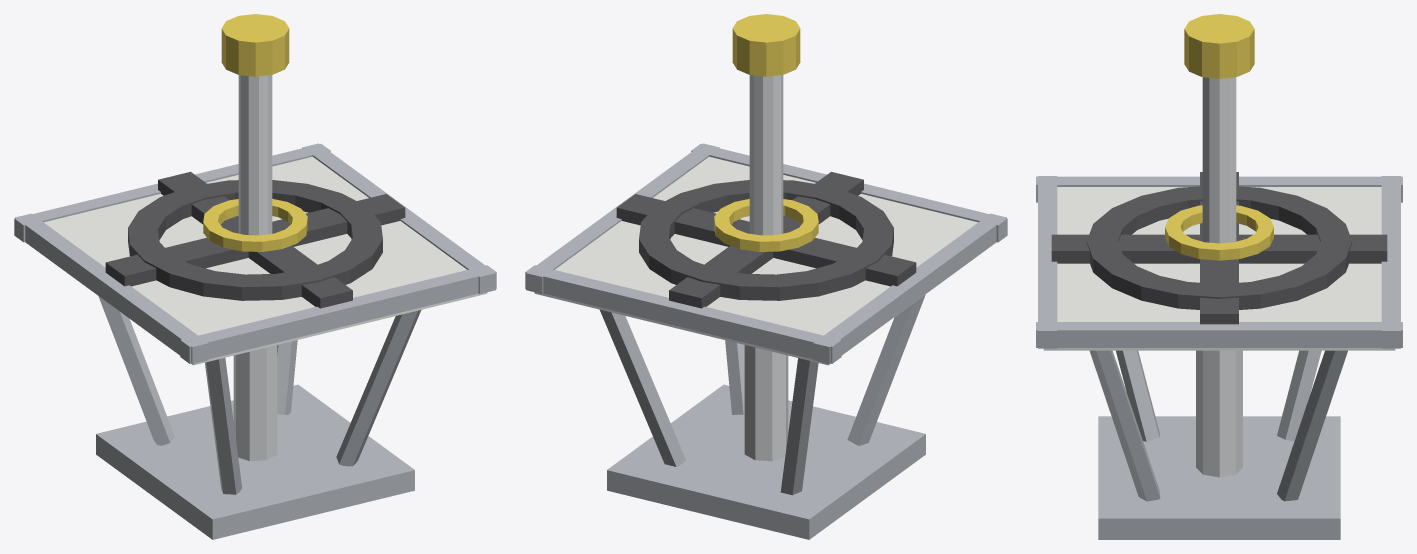
File: orbital-station-and-docking-bays-docking-target-cross-58003fed__24551.glb
3 renders of one model, left to right at view 1: azimuth 30°, elevation 25°; view 2: azimuth 150°, elevation 25°; view 3: azimuth 270°, elevation 25°, orthographic. The views are drawn at different scales.
Parts seen in each view (by area): view 1: docking-target-cross; view 2: docking-target-cross; view 3: docking-target-cross.
Part boxes in pixels (left/top/right/bottom): docking-target-cross: left=14, top=14, right=496, bottom=539; docking-target-cross: left=525, top=14, right=1007, bottom=539; docking-target-cross: left=1036, top=14, right=1402, bottom=539.
Size of the model in its own units: 0.94 by 1.3 by 0.94.
